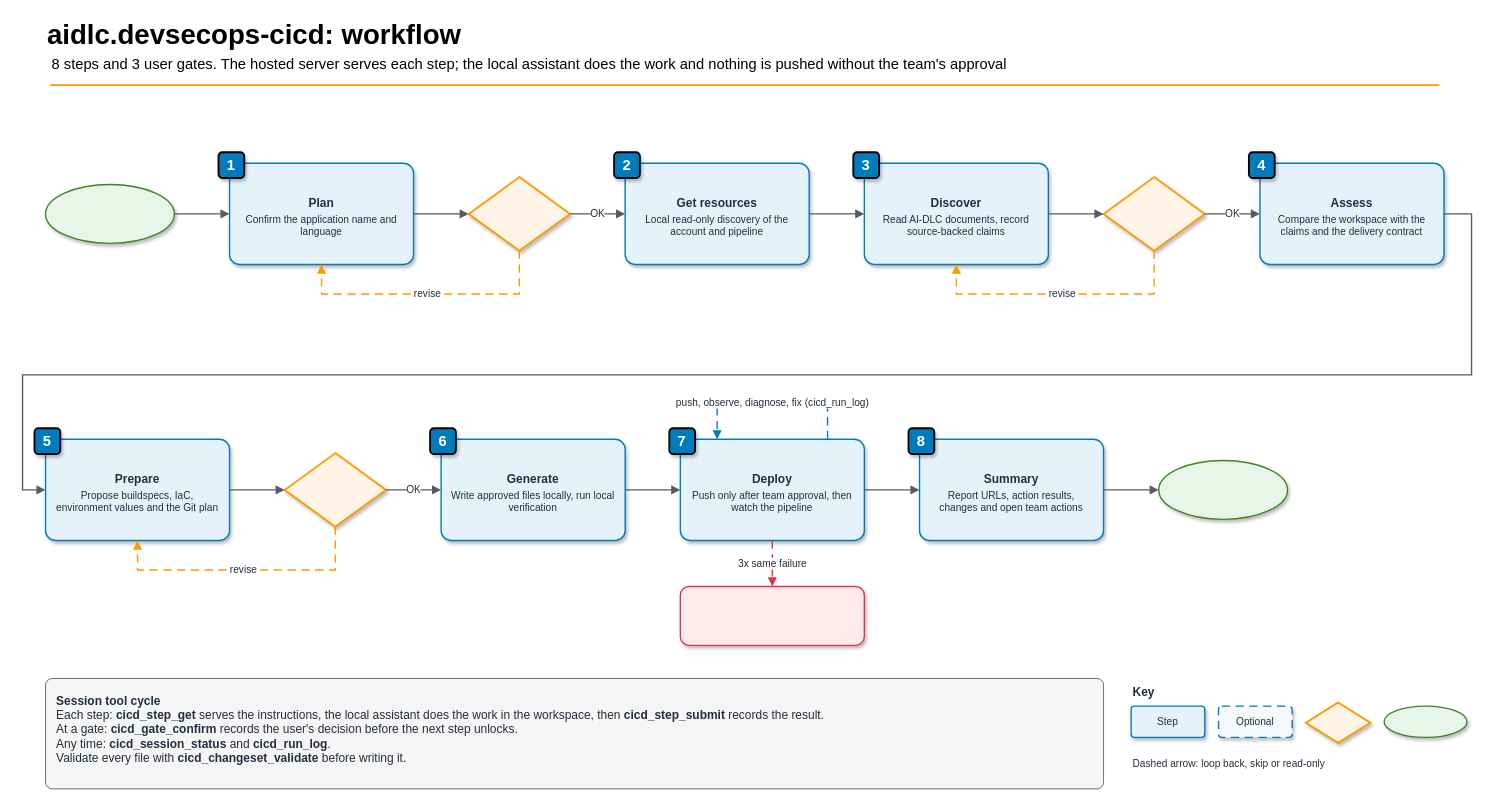
The diagram is 1497 pixels wide and 805 high, and some of its shapes have lost their labels. The centre of each missing label's shape, as x and y in pixels:
Done: (1223,491)
Gate: (1338,723)
Gate 1 user OK: (520,215)
Gate 2 user OK: (1154,215)
Gate 3 user OK: (336,491)
Start / end: (1426,722)
Start cicd_start: (110,215)
Stop and escalate same failure 3 times: hand back to the team: (773,617)
